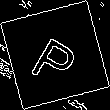P_NE: (26, 24, 84, 86)
